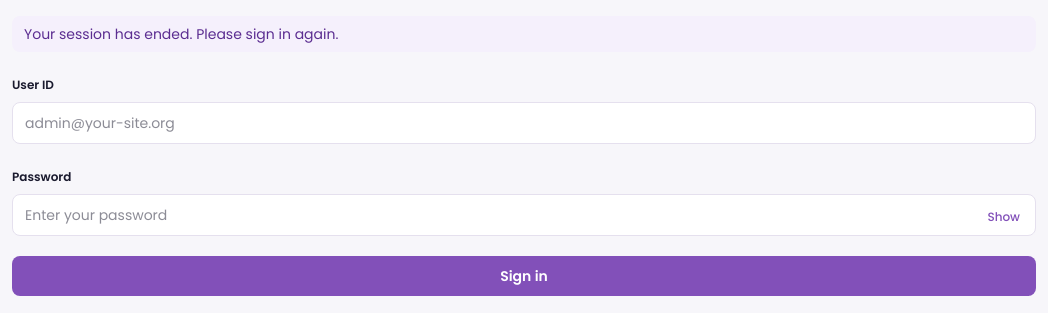
Scenario: LoginForm › session-expired notice › gives way to a sign-in error
Type "admin@site.org" into the field labelled "User ID" at x=524, y=123, box left=12, top=102, right=1036, bottom=144
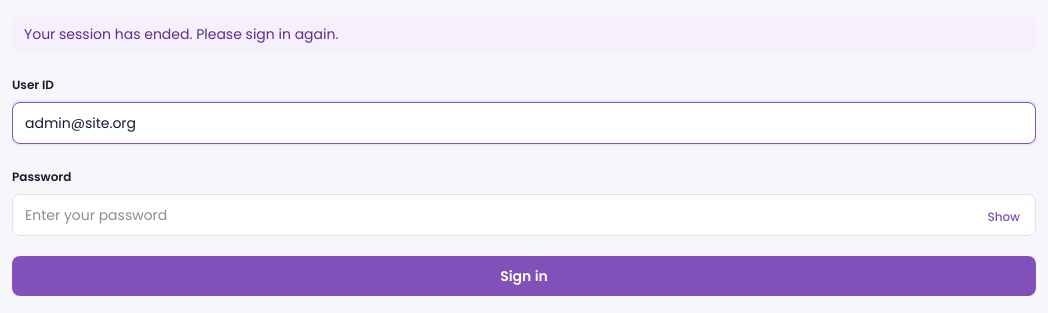
Type "secret" into the password field labelled "Password" at x=524, y=215, box left=12, top=194, right=1036, bottom=236
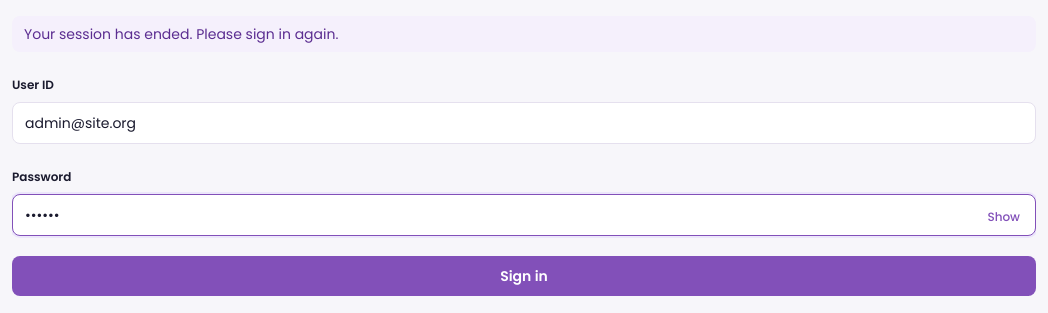
Click the button "Sign in" at x=524, y=276, box left=12, top=256, right=1036, bottom=296
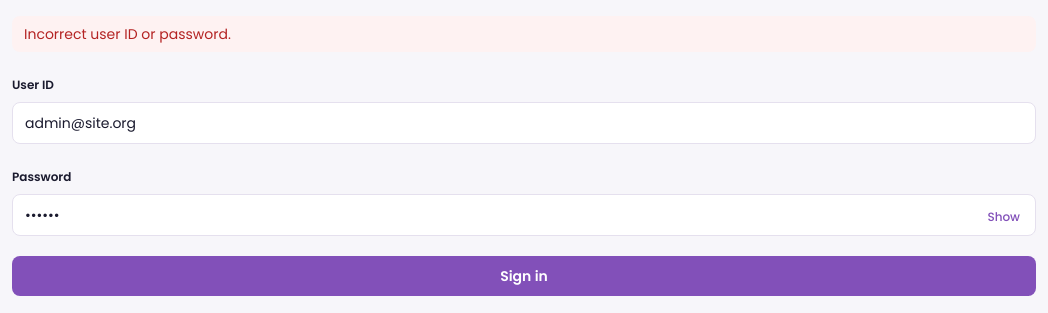
Result: the message "Incorrect user ID or password." is shown at left=12, top=16, right=1036, bottom=52
